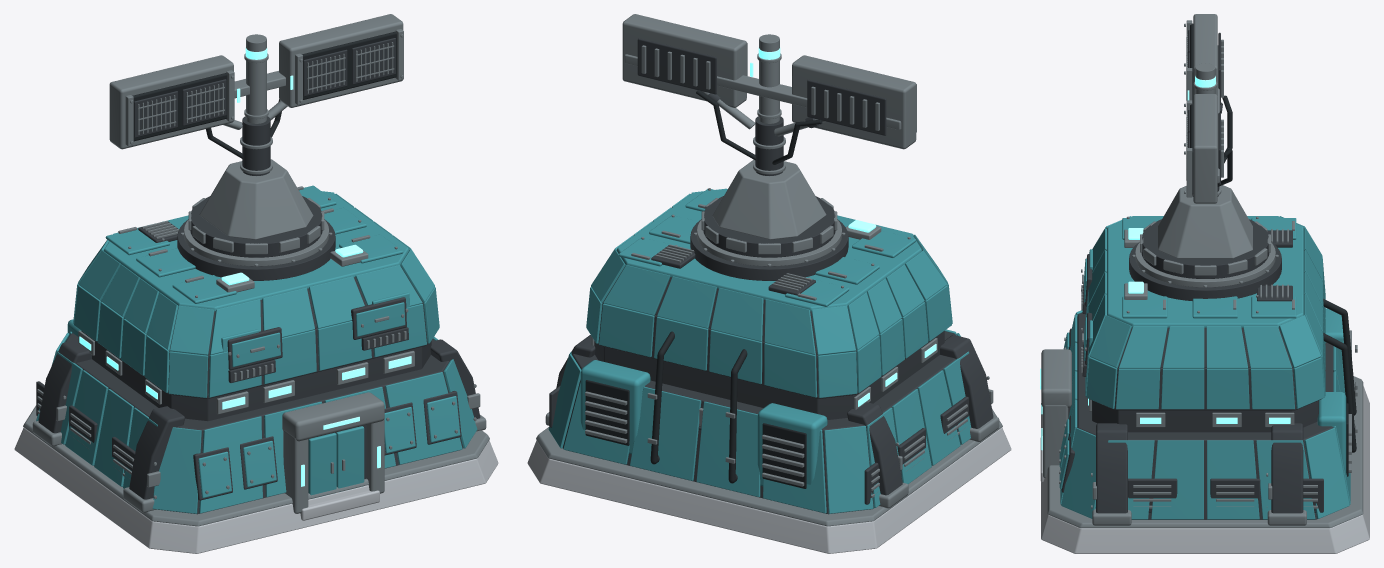
The model's file is headquarters-a.glb.
The picture shows the model from 3 angles, left to right: view 1: azimuth 30°, elevation 25°; view 2: azimuth 150°, elevation 25°; view 3: azimuth 270°, elevation 25°; orthographic projection. The views are drawn at different scales.
Visible parts, largest first — view 1: modelRoot-team-primary, modelRoot-structure, antennaYaw-neutral-metal, modelRoot-neutral-metal, modelRoot-foundation-concrete, antennaYaw-structure, antennaYaw-rubber, modelRoot-system-emissive; view 2: modelRoot-team-primary, modelRoot-structure, antennaYaw-neutral-metal, modelRoot-neutral-metal, modelRoot-foundation-concrete, antennaYaw-structure, modelRoot-rubber, antennaYaw-rubber; view 3: modelRoot-team-primary, modelRoot-structure, modelRoot-neutral-metal, antennaYaw-neutral-metal, modelRoot-foundation-concrete, modelRoot-rubber, antennaYaw-rubber, modelRoot-system-emissive, antennaYaw-structure.
Part boxes in pixels (x1,y1,x2,y2): modelRoot-team-primary: [36, 185, 477, 513]; modelRoot-structure: [36, 196, 480, 514]; antennaYaw-neutral-metal: [109, 14, 403, 239]; modelRoot-neutral-metal: [23, 186, 489, 526]; modelRoot-foundation-concrete: [14, 427, 498, 553]; antennaYaw-structure: [134, 38, 395, 175]; antennaYaw-rubber: [132, 31, 396, 158]; modelRoot-system-emissive: [79, 244, 411, 429]; modelRoot-team-primary: [548, 188, 971, 513]; modelRoot-structure: [549, 196, 993, 514]; antennaYaw-neutral-metal: [622, 14, 916, 239]; modelRoot-neutral-metal: [536, 188, 1002, 526]; modelRoot-foundation-concrete: [527, 427, 1011, 553]; antennaYaw-structure: [637, 38, 886, 175]; modelRoot-rubber: [585, 331, 806, 488]; antennaYaw-rubber: [696, 90, 822, 164]; modelRoot-team-primary: [1059, 216, 1350, 519]; modelRoot-structure: [1061, 219, 1333, 519]; modelRoot-neutral-metal: [1041, 216, 1363, 528]; antennaYaw-neutral-metal: [1158, 14, 1252, 258]; modelRoot-foundation-concrete: [1040, 386, 1369, 553]; modelRoot-rubber: [1323, 299, 1356, 476]; antennaYaw-rubber: [1190, 23, 1232, 194]; modelRoot-system-emissive: [1040, 228, 1290, 423]; antennaYaw-structure: [1188, 30, 1222, 196].
Bounding box in the file's own units: 3.67 × 4.2 × 3.1.
